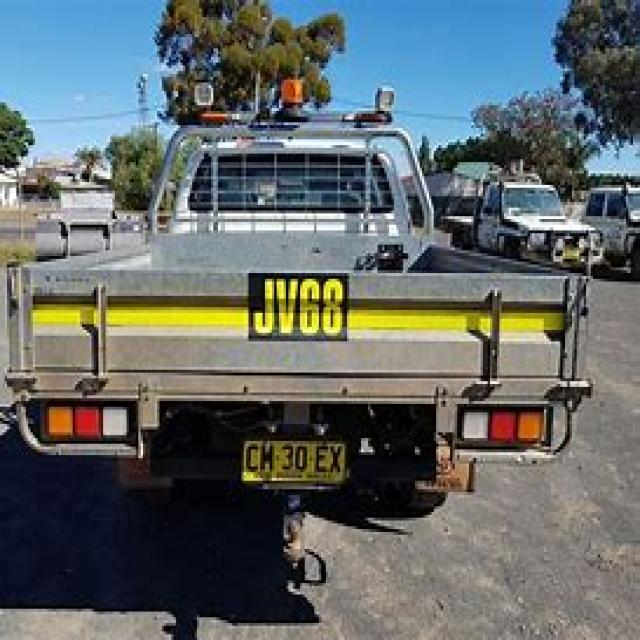light_vehicle: (7, 88, 595, 529)
